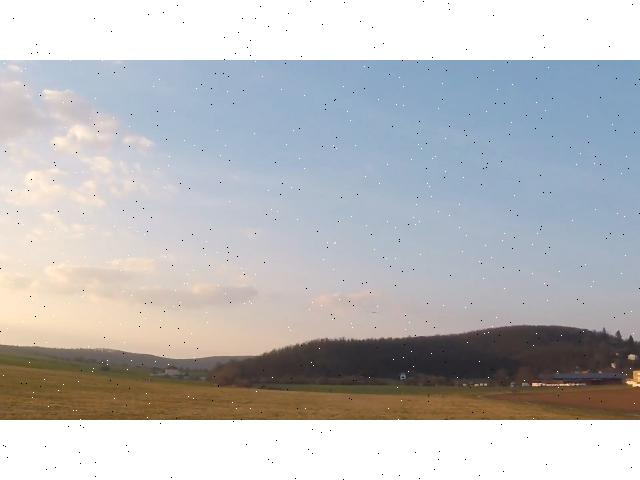Anti-Drone: (366, 310, 380, 314)
